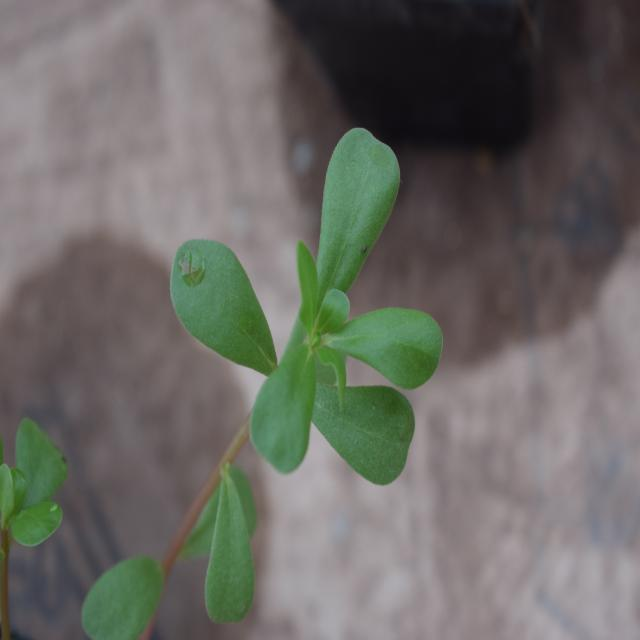purslane: (126, 129, 455, 574)
